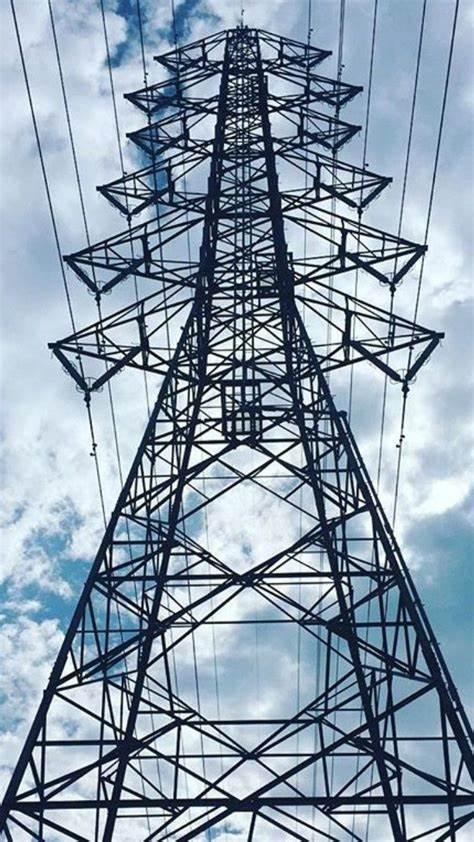power_tower: (2, 19, 474, 842)
